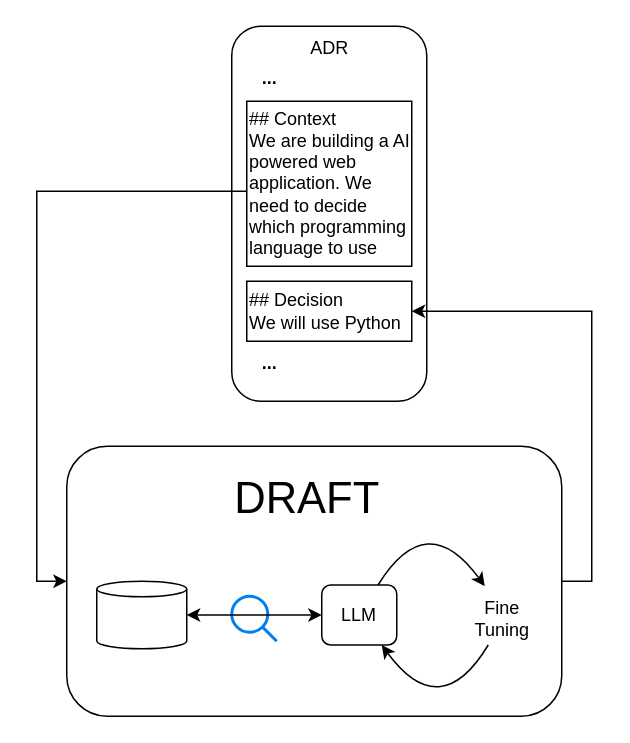
This 630x743 diagram has some shape labels left out. The centre of each missing label's shape, as x and y in pixels:
"Retrieval" belongs at (254,618).
"Vector DB" belongs at (141,614).
